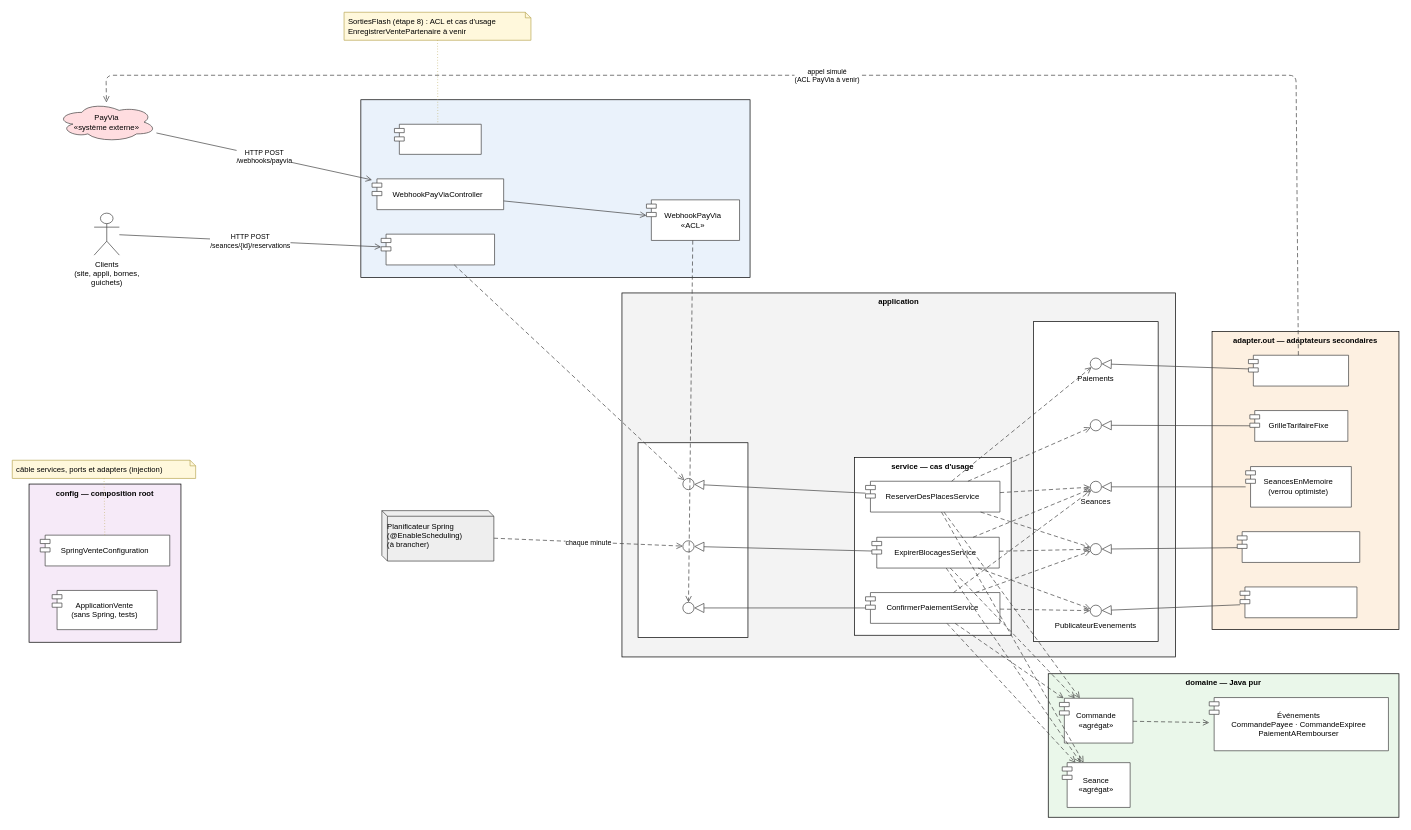
This 1411x830 diagram has some shape labels left out. The box of each missing label's shape, as (x1, y1, x2, y2) in pixels:
adapter.in — adaptateurs primaires: (360, 99, 750, 278)
Commandes: (1090, 543, 1101, 555)
CommandesEnMemoire: (1237, 531, 1360, 562)
ConfirmerPaiement: (682, 602, 694, 614)
ExpirerBlocages: (682, 540, 694, 552)
GestionErreurs: (394, 124, 481, 154)
GrilleTarifaire: (1090, 419, 1101, 431)
PaiementsSimules: (1248, 355, 1349, 386)
port.in: (637, 442, 748, 637)
port.out: (1033, 321, 1158, 642)
PublicateurEnMemoire: (1239, 586, 1357, 618)
ReservationController: (380, 233, 495, 265)
ReserverDesPlaces: (682, 478, 694, 490)
